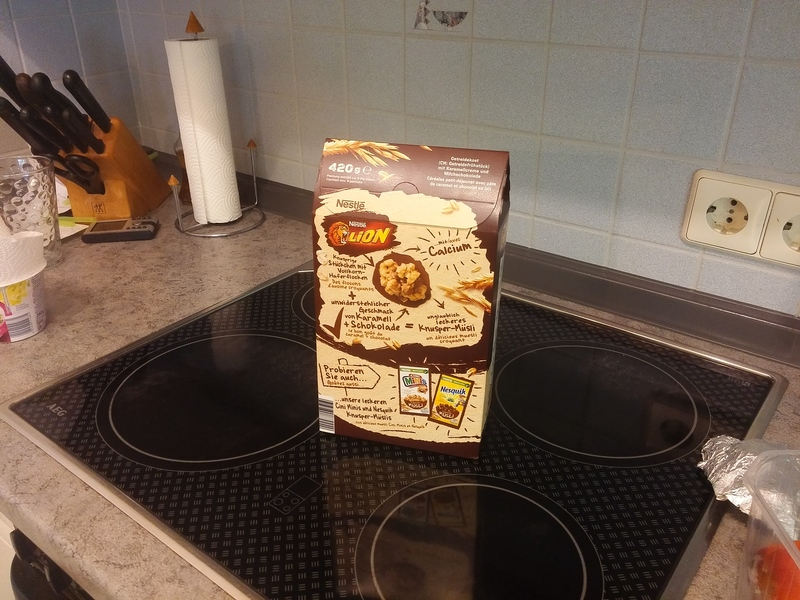cereals: (312, 137, 512, 461)
